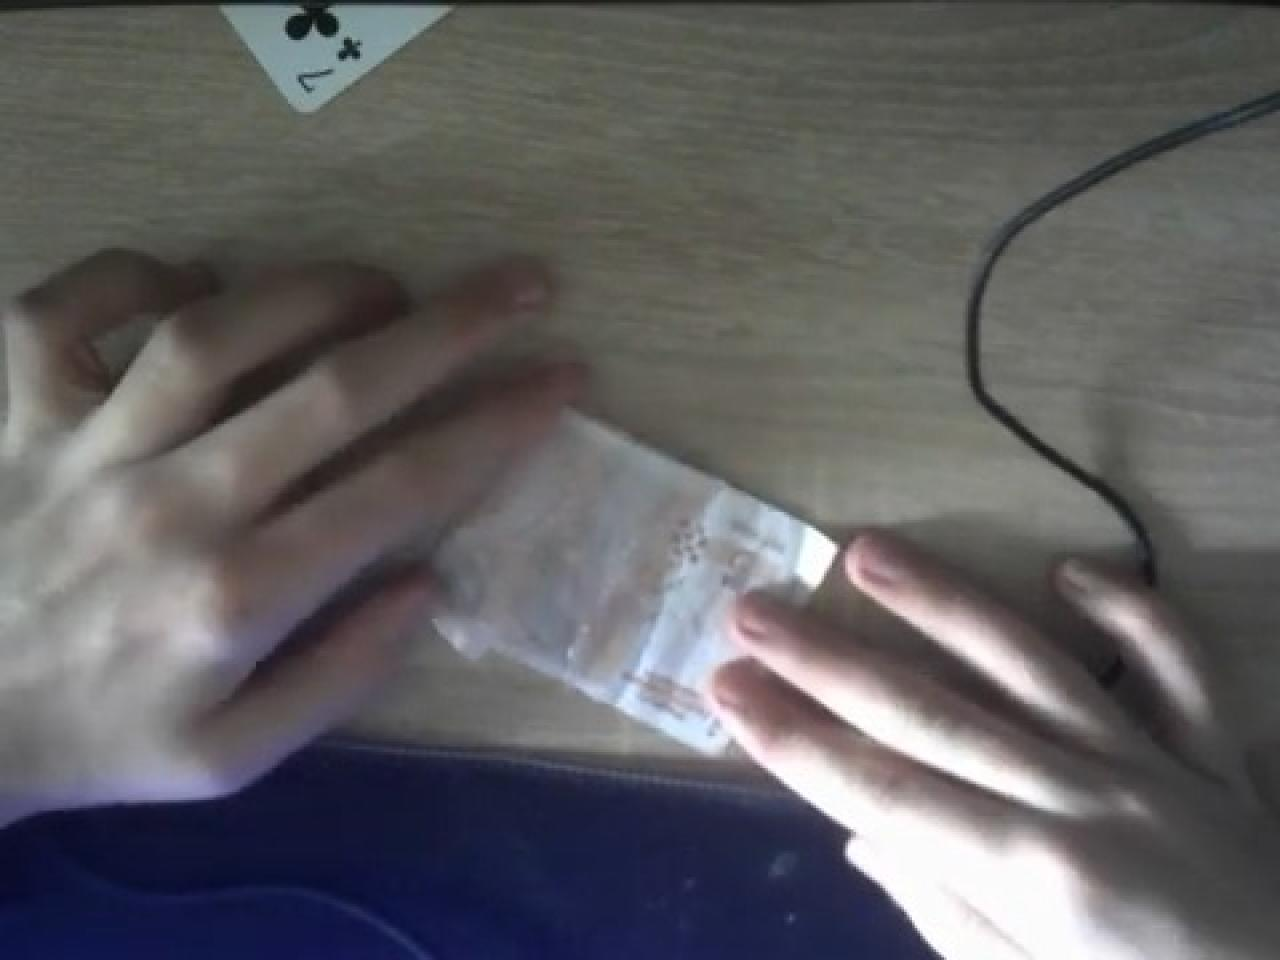5leva: (432, 405, 843, 755)
